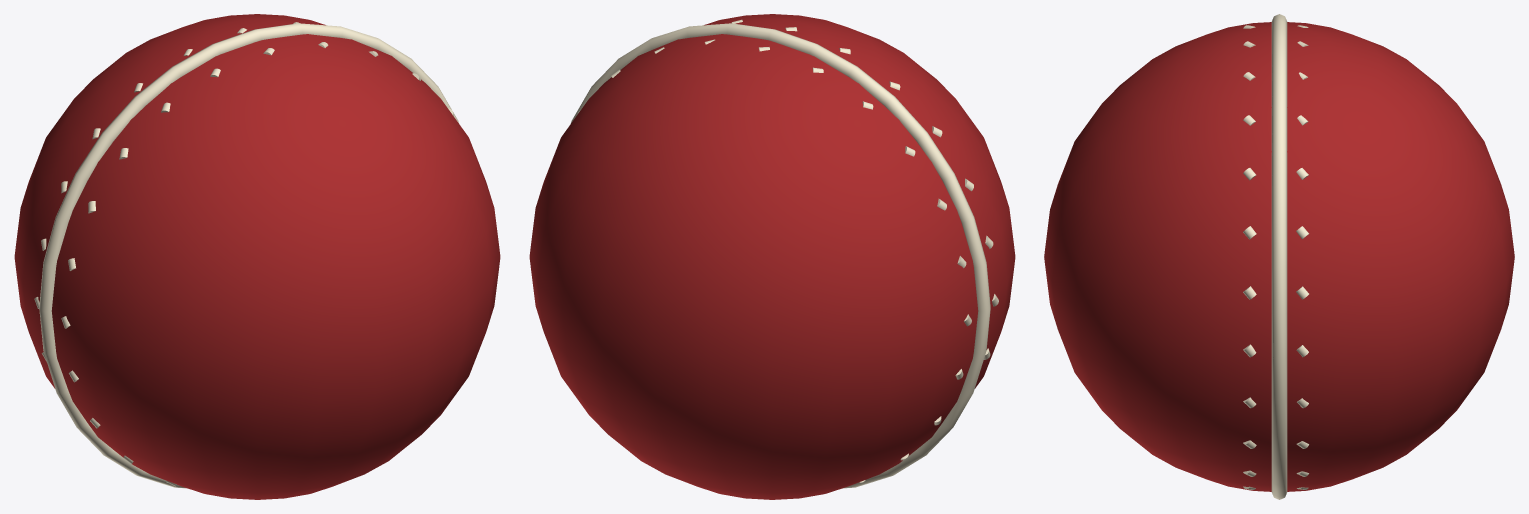
Rendered from cricket-ground-and-pavilion-seamed-cricket-ball-7dfe26fe__31314.glb.
3 renders of one model, left to right at view 1: azimuth 30°, elevation 25°; view 2: azimuth 150°, elevation 25°; view 3: azimuth 270°, elevation 25°, orthographic. The views are drawn at different scales.
Parts seen in each view (by area): view 1: seamed-cricket-ball; view 2: seamed-cricket-ball; view 3: seamed-cricket-ball.
Boxes of the visible parts, x1=… form: seamed-cricket-ball: x1=14, y1=14, x2=500, y2=499; seamed-cricket-ball: x1=529, y1=14, x2=1015, y2=499; seamed-cricket-ball: x1=1044, y1=14, x2=1514, y2=499.
Size of the model in its own units: 0.0744 by 0.0744 by 0.072.
